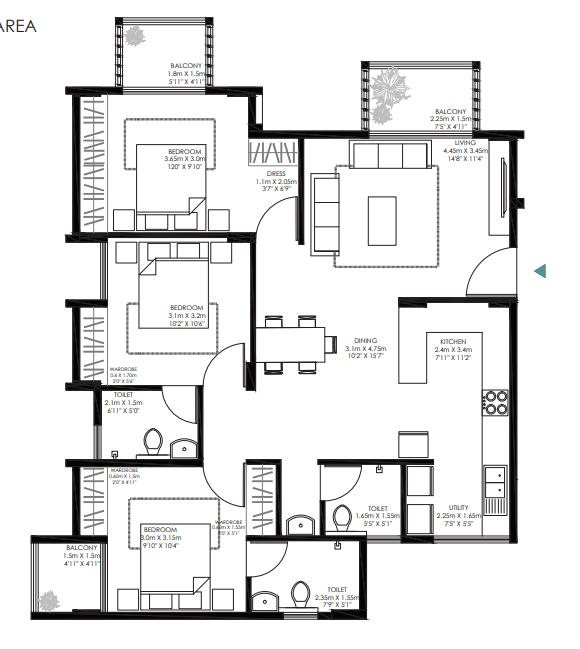Balcony: (370, 66, 474, 130), (117, 21, 208, 91), (35, 540, 102, 616)
Bed: (136, 236, 212, 328), (136, 143, 212, 232)
Bedroom: (109, 239, 243, 386), (110, 467, 245, 609), (109, 95, 248, 229)
Dining Room: (258, 279, 399, 407)
Dining table: (246, 315, 342, 388)
Kitchen: (404, 309, 501, 462)
Living Room: (309, 143, 511, 300)
Sofa: (306, 166, 348, 251), (352, 145, 425, 168)
Wardrobe: (77, 95, 108, 234), (77, 311, 107, 383), (243, 136, 302, 166), (82, 468, 108, 536), (247, 472, 277, 529)
commode: (141, 428, 165, 455), (293, 582, 310, 606), (335, 507, 351, 531)
door: (465, 242, 516, 295), (200, 346, 247, 386), (205, 465, 248, 508), (256, 195, 300, 236), (249, 537, 286, 575), (322, 468, 359, 503), (164, 391, 196, 425)
dress: (249, 140, 298, 235)
fridge: (398, 433, 429, 458)
kitchen-slab: (480, 306, 508, 538), (403, 305, 510, 333), (402, 306, 424, 382)
sink: (481, 467, 509, 519), (170, 439, 199, 461), (286, 516, 315, 535), (252, 592, 278, 611)
stove: (481, 388, 511, 417)
toilet: (251, 542, 360, 610), (99, 390, 198, 460), (323, 465, 399, 531)
tv: (485, 140, 517, 233)
utility: (408, 463, 504, 535)
washing-machine: (407, 504, 435, 535), (406, 465, 433, 495)
